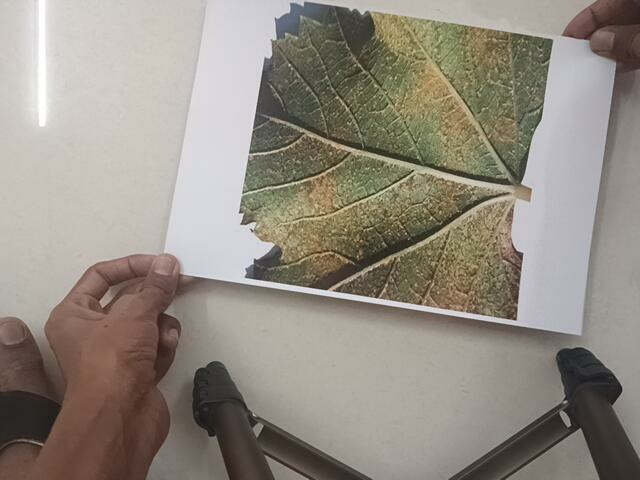Grape_Rust_Fungus: (247, 9, 543, 324)
